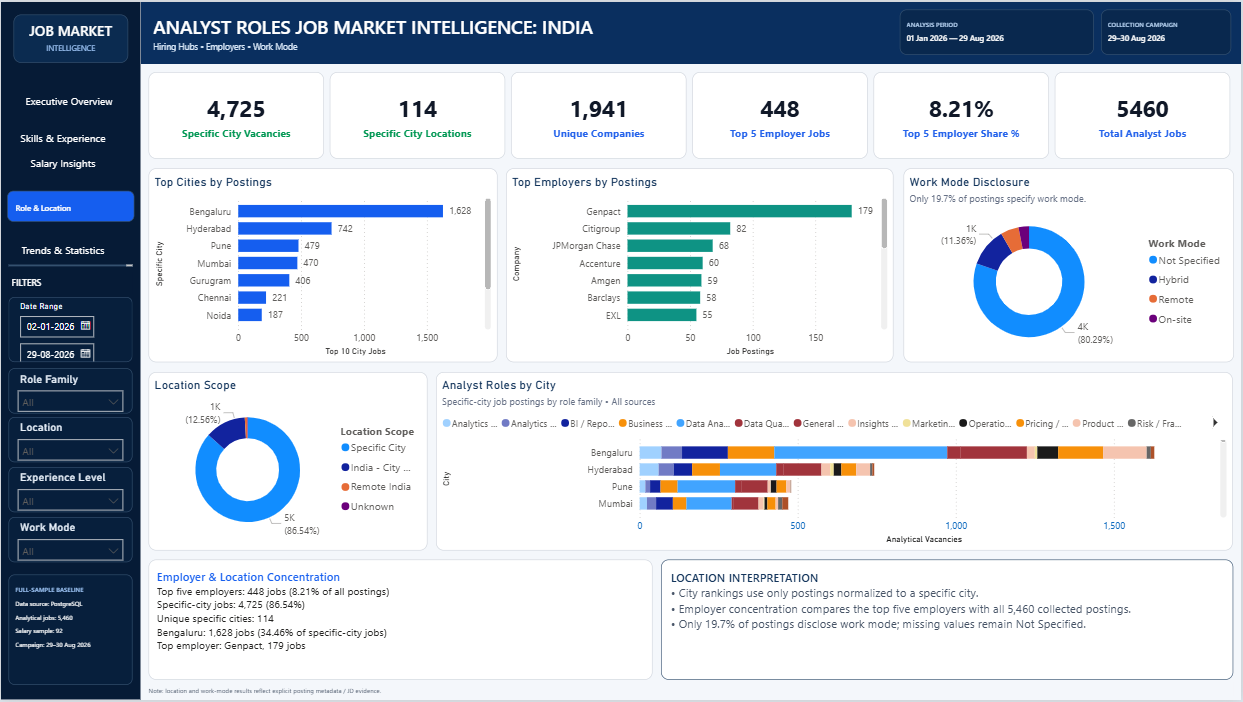

The dashboard page shown, as its layout file describes it:
{"tool":"powerbi","page":{"name":"Role & Location ","canvas":[1600,900],"ordinal":3},"visuals":[{"type":"textbox","box":[0,0,180,900],"z":0},{"type":"textbox","box":[16,16,148,62],"z":1000},{"type":"textbox","box":[8,243,164,40],"z":2000},{"type":"textbox","box":[10,338,160,2],"z":3000},{"type":"textbox","box":[10,348,160,28],"z":4000},{"type":"slicer","fields":{"Values":["Jobs.Posted Date"]},"box":[10,380,160,84],"z":5000},{"type":"slicer","fields":{"Values":["Jobs.Role Family"]},"box":[10,472,160,58],"z":6000},{"type":"slicer","fields":{"Values":["Jobs.Specific City"]},"box":[10,536,160,58],"z":7000},{"type":"slicer","fields":{"Values":["Jobs.Experience Band"]},"box":[10,600,160,58],"z":8000},{"type":"slicer","fields":{"Values":["Jobs.Work Mode"]},"box":[10,664,160,58],"z":9000},{"type":"textbox","box":[10,738,160,142],"z":10000},{"type":"textbox","box":[180,0,1420,80],"z":11000},{"type":"textbox","box":[1160,10,250,58],"z":12000},{"type":"textbox","box":[1420,10,168,58],"z":13000},{"type":"barChart","title":"Top Cities by Postings","fields":{"Category":["Jobs.Specific City"],"Y":["Jobs.Top 10 City Jobs"]},"box":[190,215,450,250],"z":14000},{"type":"barChart","title":"Top Employers by Postings","fields":{"Category":["Jobs.Company"],"Y":["Jobs.Top 15 Company Jobs"]},"box":[652,215,500,250],"z":15000},{"type":"donutChart","title":"Work Mode Disclosure","fields":{"Category":["Jobs.Work Mode"],"Y":["Jobs.Analytical Vacancies"]},"box":[1164,215,426,250],"z":16000},{"type":"donutChart","title":"Location Scope","fields":{"Category":["Jobs.Location Scope"],"Y":["Jobs.Analytical Vacancies"]},"box":[190,477,360,230],"z":17000},{"type":"barChart","title":"Analyst Roles by City","fields":{"Category":["Jobs.City"],"Series":["Jobs.Role Family"],"Y":["Jobs.Analytical Vacancies"]},"box":[562,477,1028,230],"z":18000},{"type":"textbox","box":[190,719,650,155],"z":19000},{"type":"textbox","box":[852,719,738,155],"z":20000},{"type":"textbox","box":[190,878,1400,18],"z":21000},{"type":"actionButton","box":[0,112,176,32],"z":22000},{"type":"actionButton","box":[0,160,160,32],"z":23000},{"type":"card","fields":{"Values":["Jobs.Specific City Vacancies"]},"box":[190,90,226,112],"z":24000},{"type":"actionButton","box":[0,192,160,32],"z":25000},{"type":"card","fields":{"Values":["Jobs.Specific City Locations"]},"box":[424,90,226,112],"z":26000},{"type":"card","fields":{"Values":["Jobs.Unique Companies"]},"box":[658,90,226,112],"z":27000},{"type":"card","fields":{"Values":["Jobs.Top 5 Employer Jobs"]},"box":[892,90,226,112],"z":28000},{"type":"card","fields":{"Values":["Jobs.Top 5 Employer Share %"]},"box":[1126,90,226,112],"z":29000},{"type":"card","fields":{"Values":["Jobs.Total Analyst Jobs"]},"box":[1360,90,226,112],"z":30000},{"type":"actionButton","box":[0,304,160,32],"z":31000}]}

Visuals, with their boxes on the page's 1600x900 design canvas (x1, y1, x2, y2). These are canvas units, not pixel positions in the 1243x702 screenshot, which may show the page scaled, cropped or inside an application window:
textbox: 0/0/180/900
textbox: 16/16/164/78
textbox: 8/243/172/283
textbox: 10/338/170/340
textbox: 10/348/170/376
slicer - Jobs.Posted Date: 10/380/170/464
slicer - Jobs.Role Family: 10/472/170/530
slicer - Jobs.Specific City: 10/536/170/594
slicer - Jobs.Experience Band: 10/600/170/658
slicer - Jobs.Work Mode: 10/664/170/722
textbox: 10/738/170/880
textbox: 180/0/1600/80
textbox: 1160/10/1410/68
textbox: 1420/10/1588/68
"Top Cities by Postings" barChart: 190/215/640/465
"Top Employers by Postings" barChart: 652/215/1152/465
"Work Mode Disclosure" donutChart: 1164/215/1590/465
"Location Scope" donutChart: 190/477/550/707
"Analyst Roles by City" barChart: 562/477/1590/707
textbox: 190/719/840/874
textbox: 852/719/1590/874
textbox: 190/878/1590/896
actionButton: 0/112/176/144
actionButton: 0/160/160/192
card - Jobs.Specific City Vacancies: 190/90/416/202
actionButton: 0/192/160/224
card - Jobs.Specific City Locations: 424/90/650/202
card - Jobs.Unique Companies: 658/90/884/202
card - Jobs.Top 5 Employer Jobs: 892/90/1118/202
card - Jobs.Top 5 Employer Share %: 1126/90/1352/202
card - Jobs.Total Analyst Jobs: 1360/90/1586/202
actionButton: 0/304/160/336
